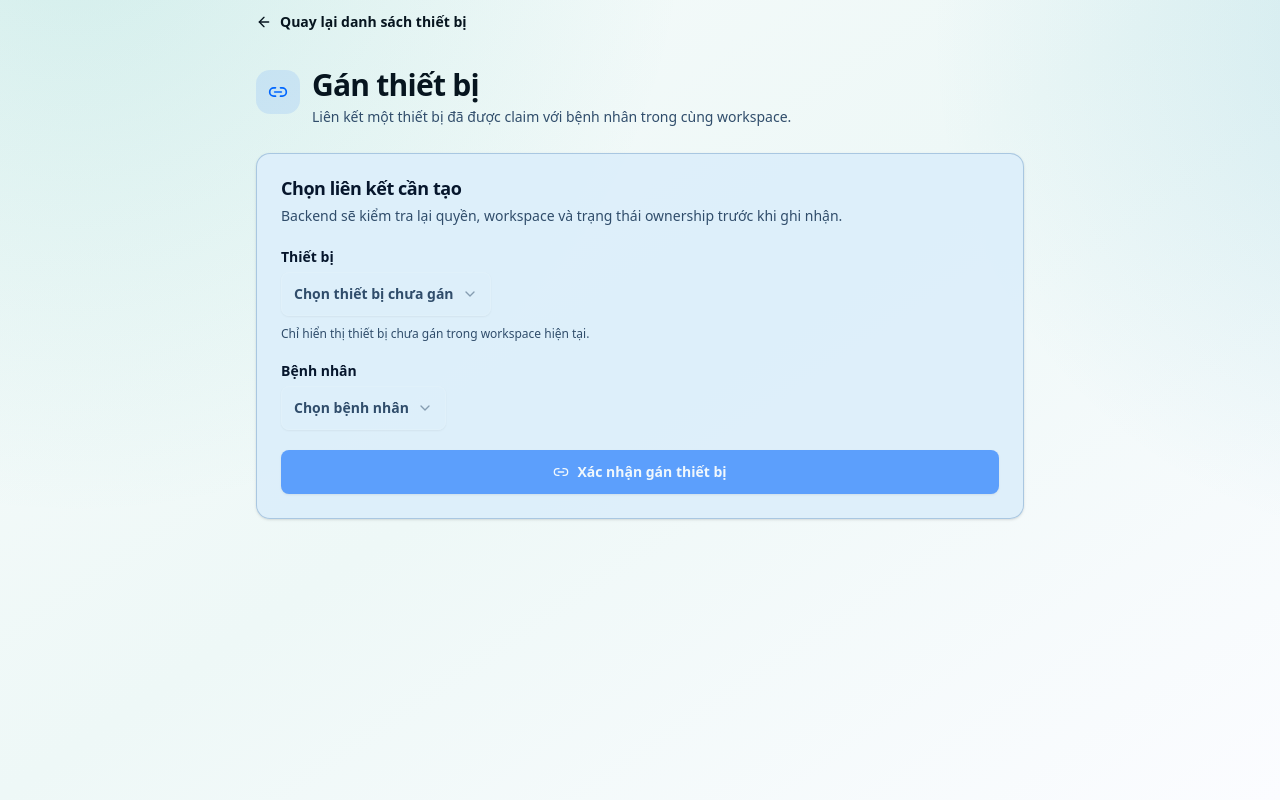
Test: AssignDevicePage › does not call the backend while offline
Expected: the heading "Gán thiết bị" is shown, [312,64,479,105]
Press ArrowDown in the dropdown labelled "Chọn thiết bị chưa gán", box [281,272,491,316]
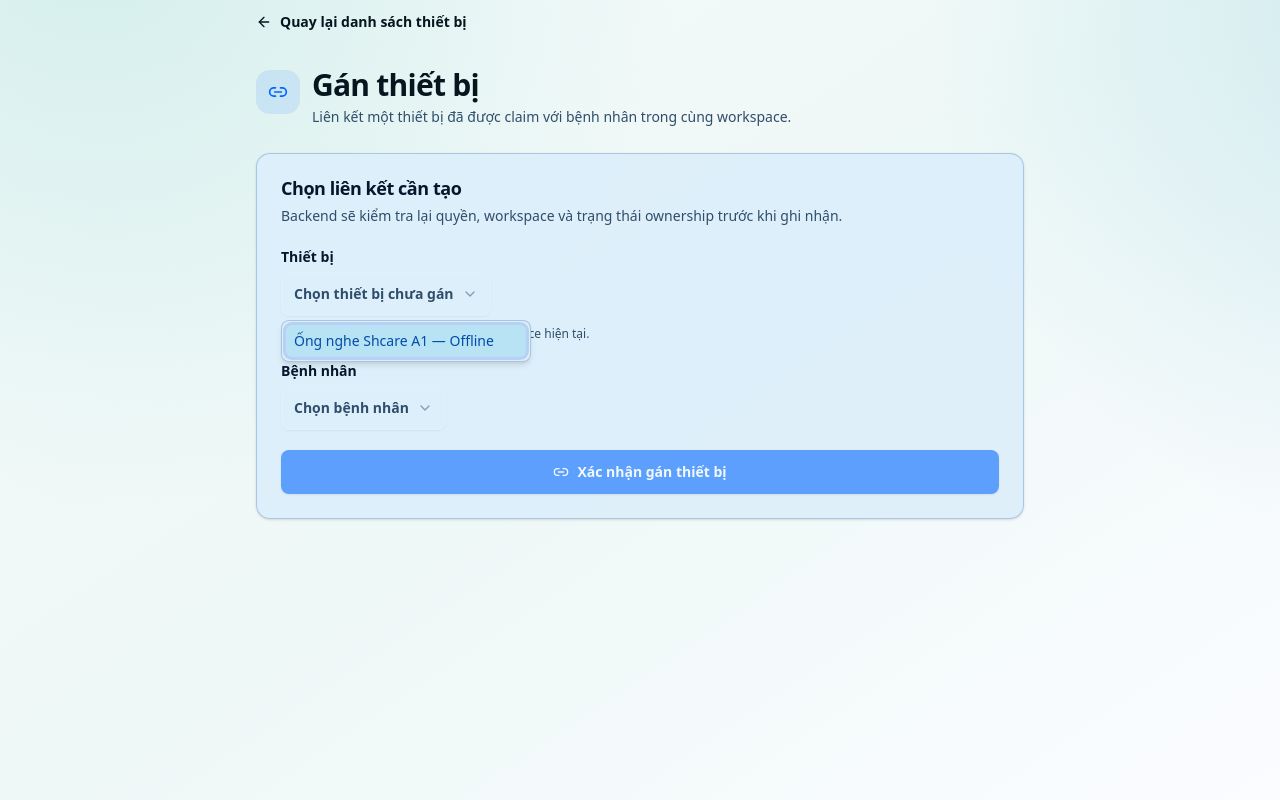
Click the option "Ống nghe Shcare A1 — Offline": (406, 341) [286,325,526,357]
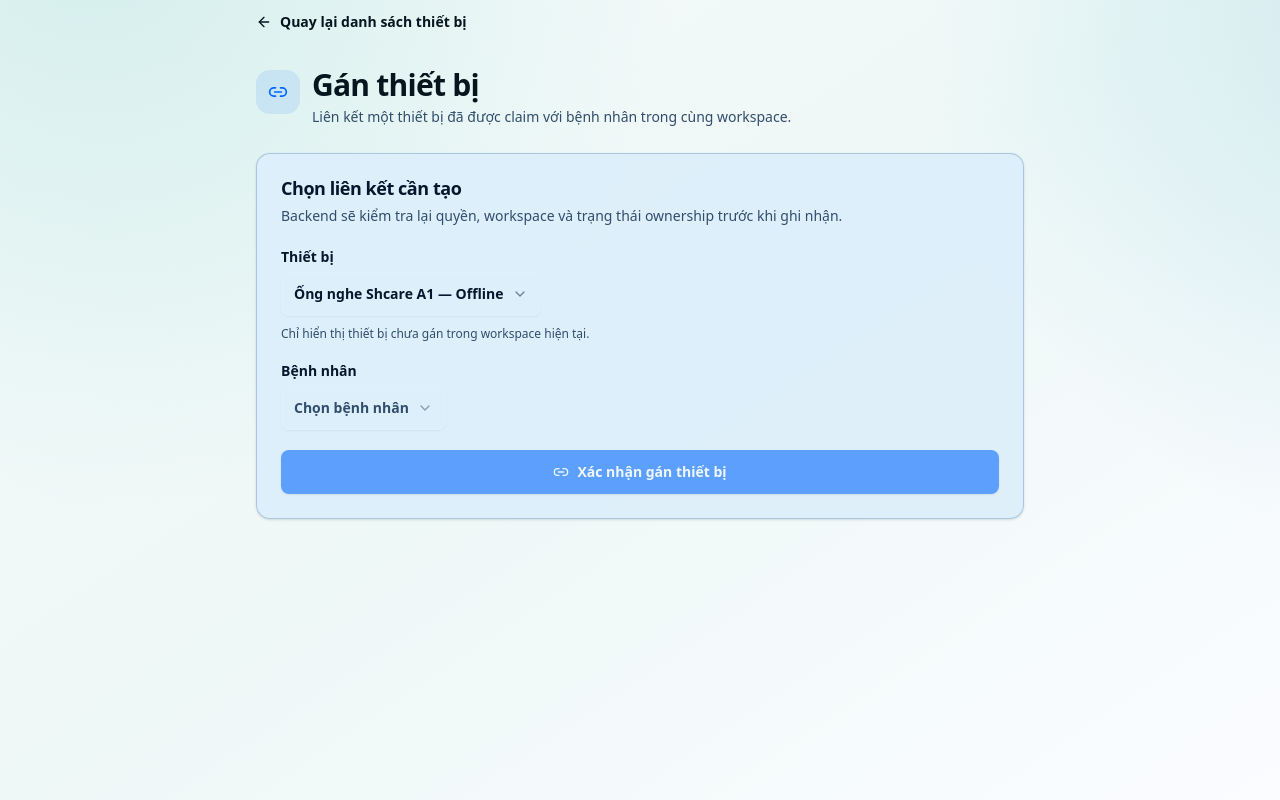
Press ArrowDown in the dropdown labelled "Chọn bệnh nhân", box [281,386,446,430]
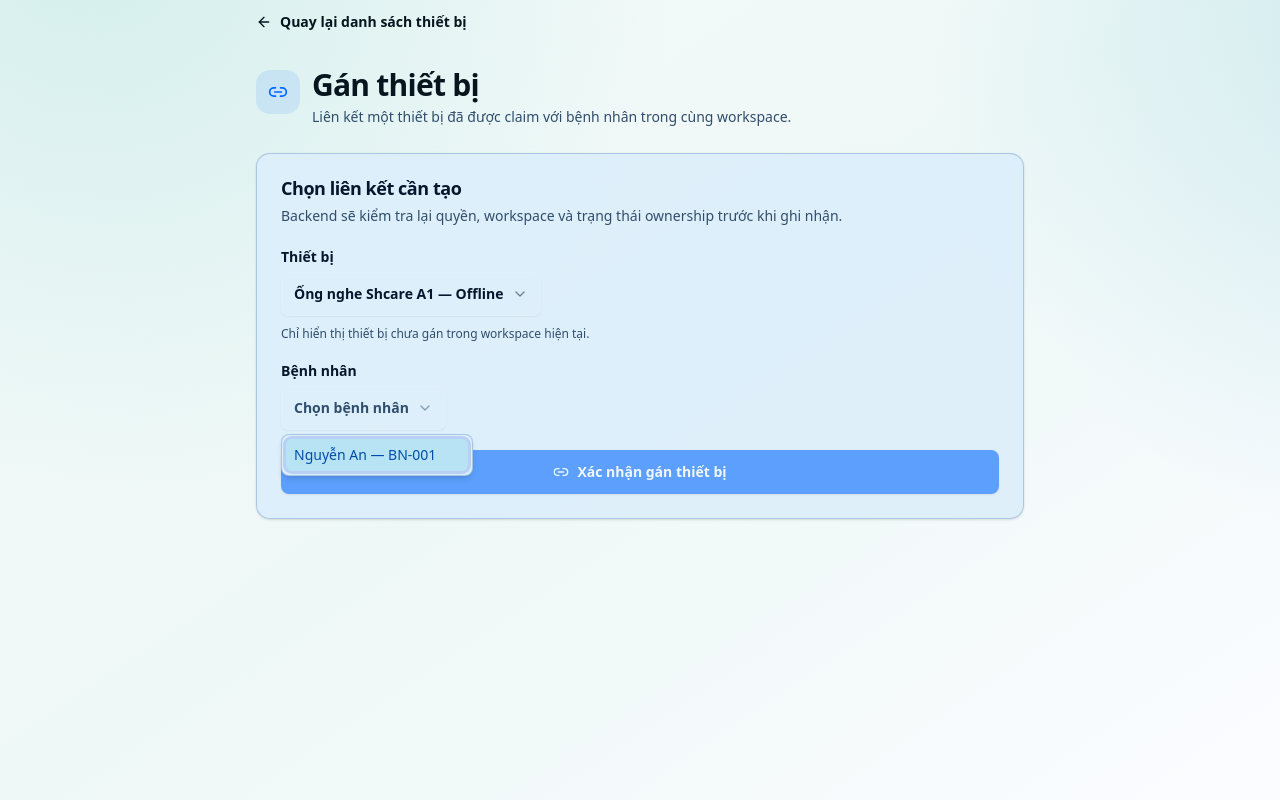
Click the option "Nguyễn An — BN-001": (377, 455) [286,439,468,471]
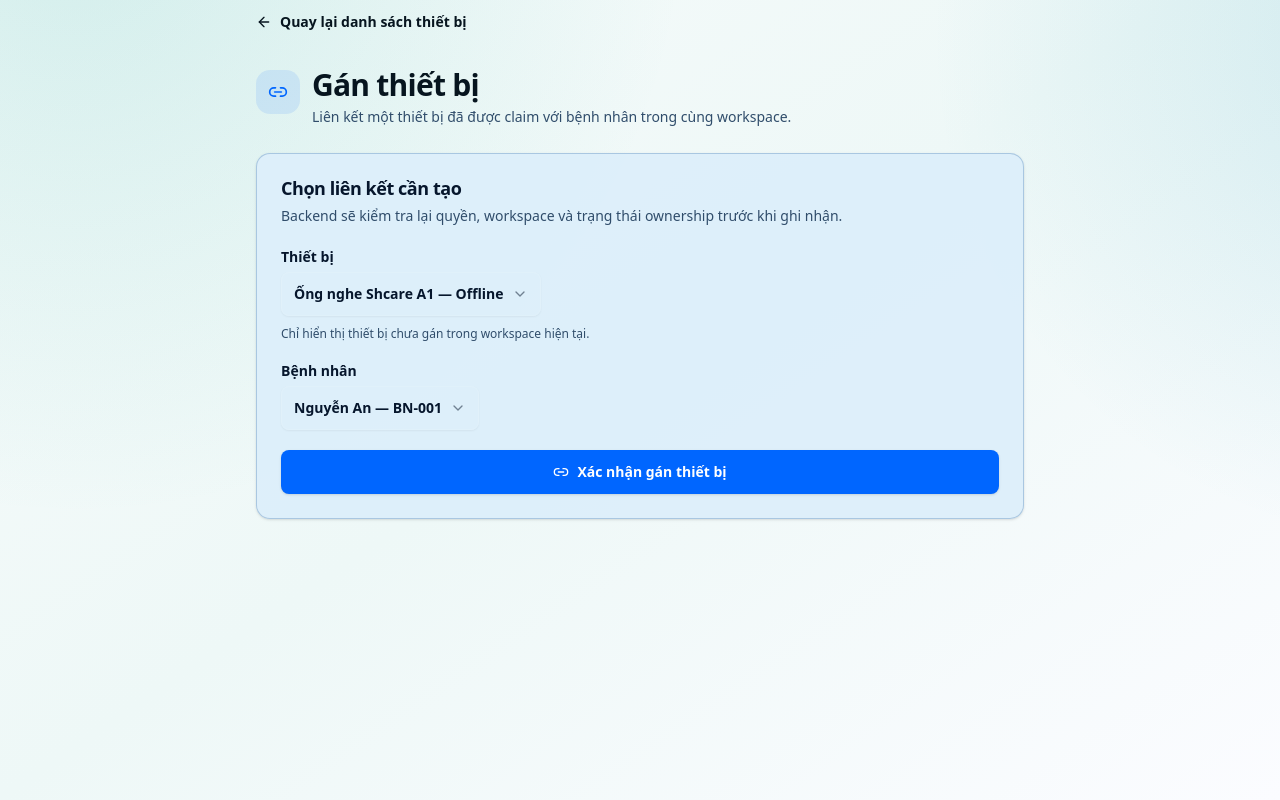
Click the button "Xác nhận gán thiết bị": (640, 472) [281,450,999,494]
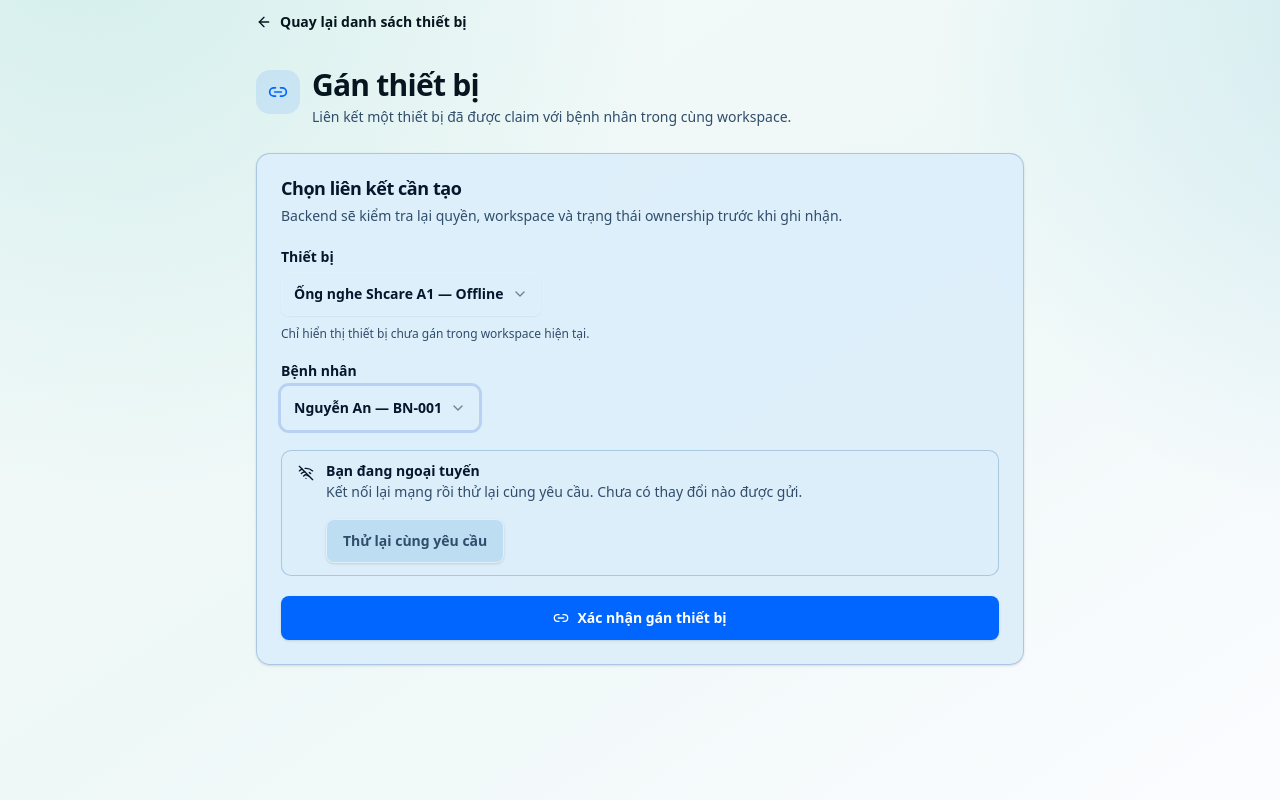
Now the heading "Bạn đang ngoại tuyến" is shown, box [326,461,480,480]
